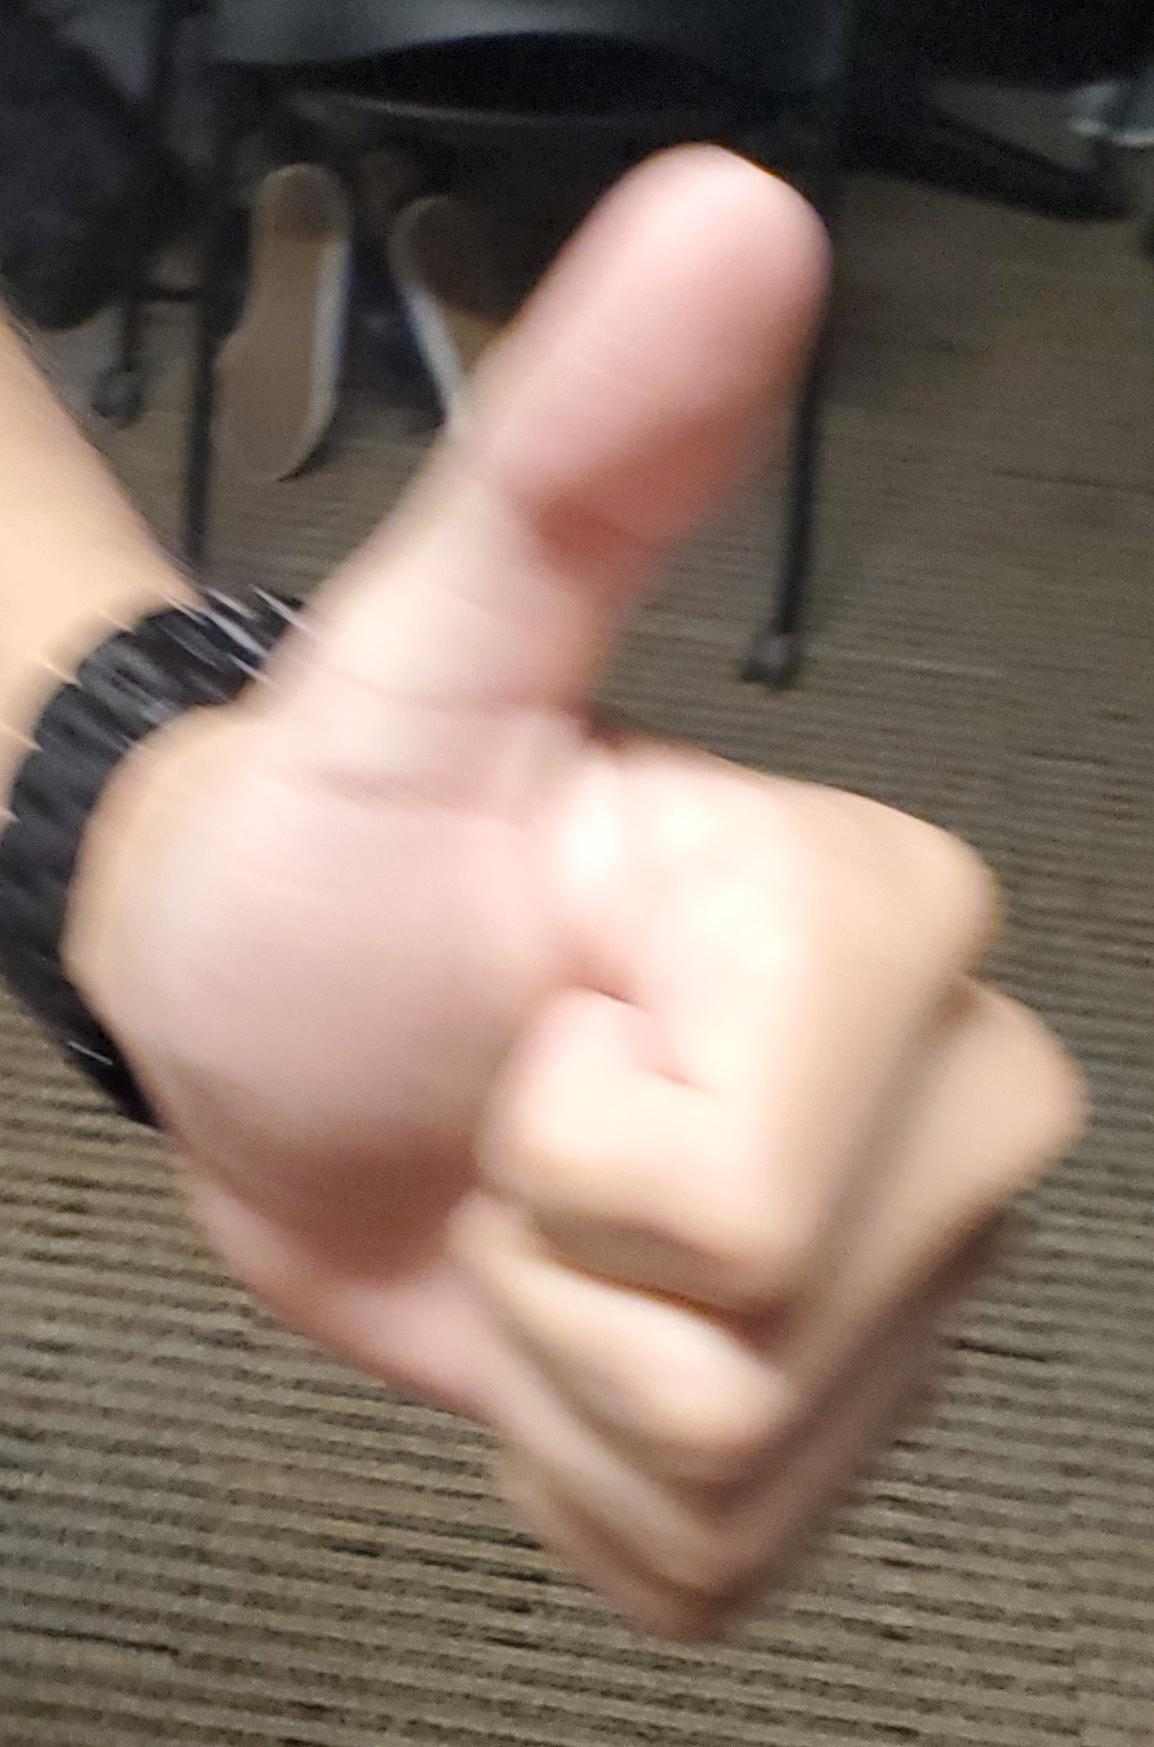up: (0, 1, 1154, 1747)
